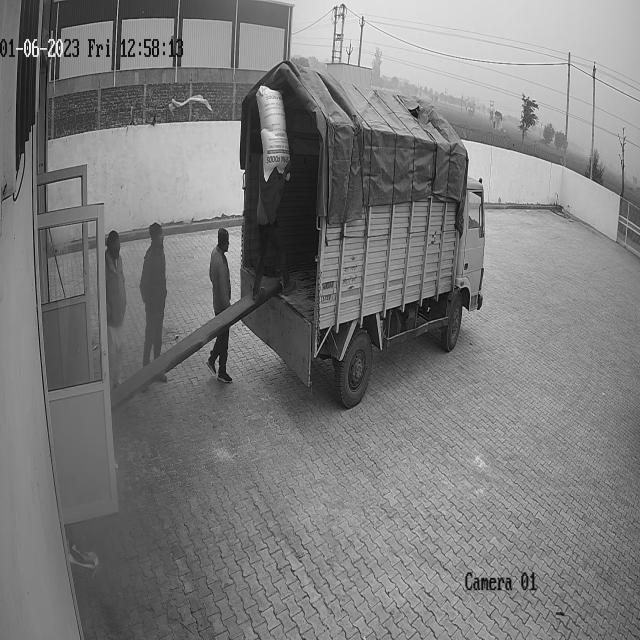sack: (254, 85, 291, 182)
